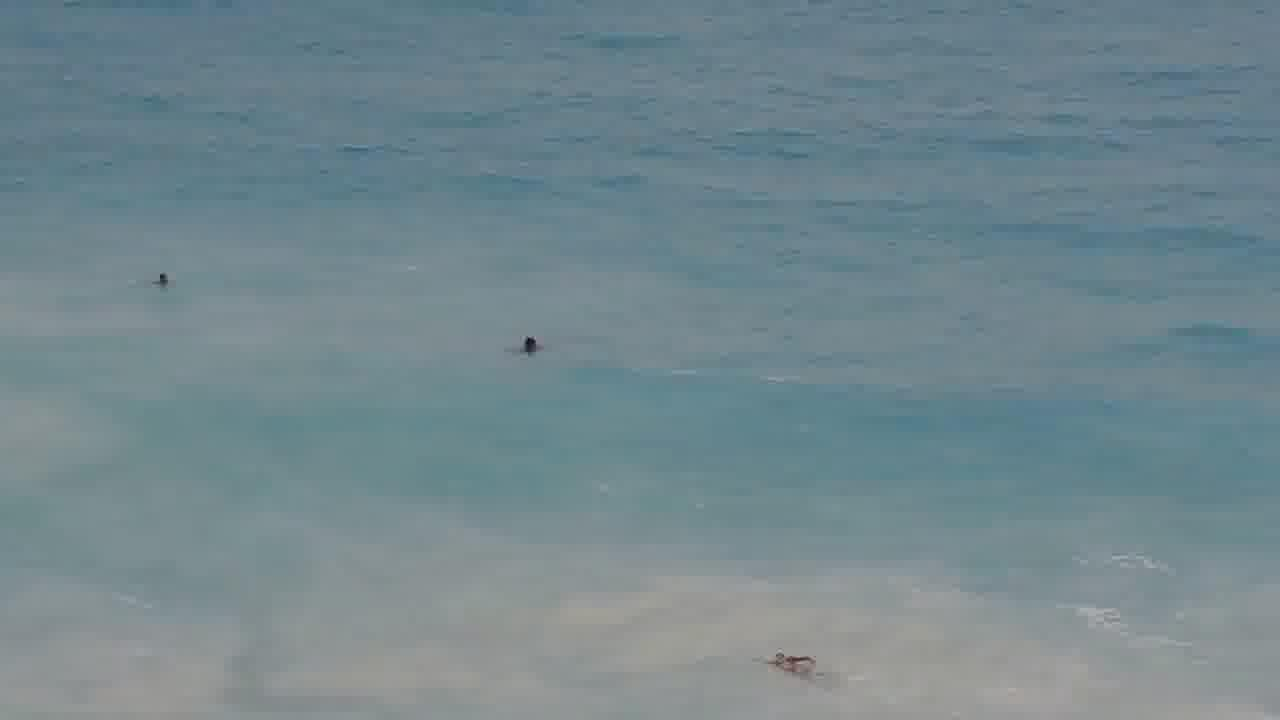swimmer: (761, 646, 825, 680), (504, 330, 557, 358), (140, 260, 180, 282)
